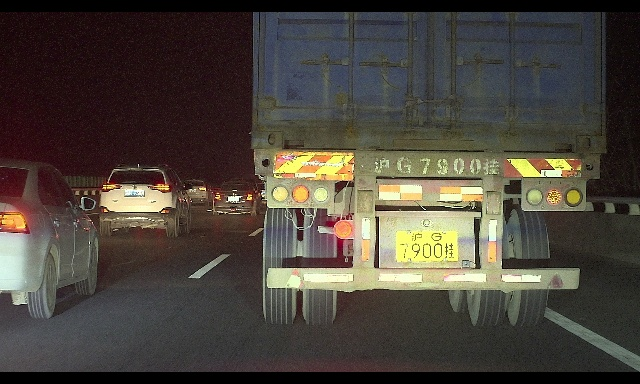car: (0, 159, 100, 319), (99, 163, 193, 238), (213, 179, 259, 217), (182, 178, 214, 207)
truck: (251, 12, 606, 328)
